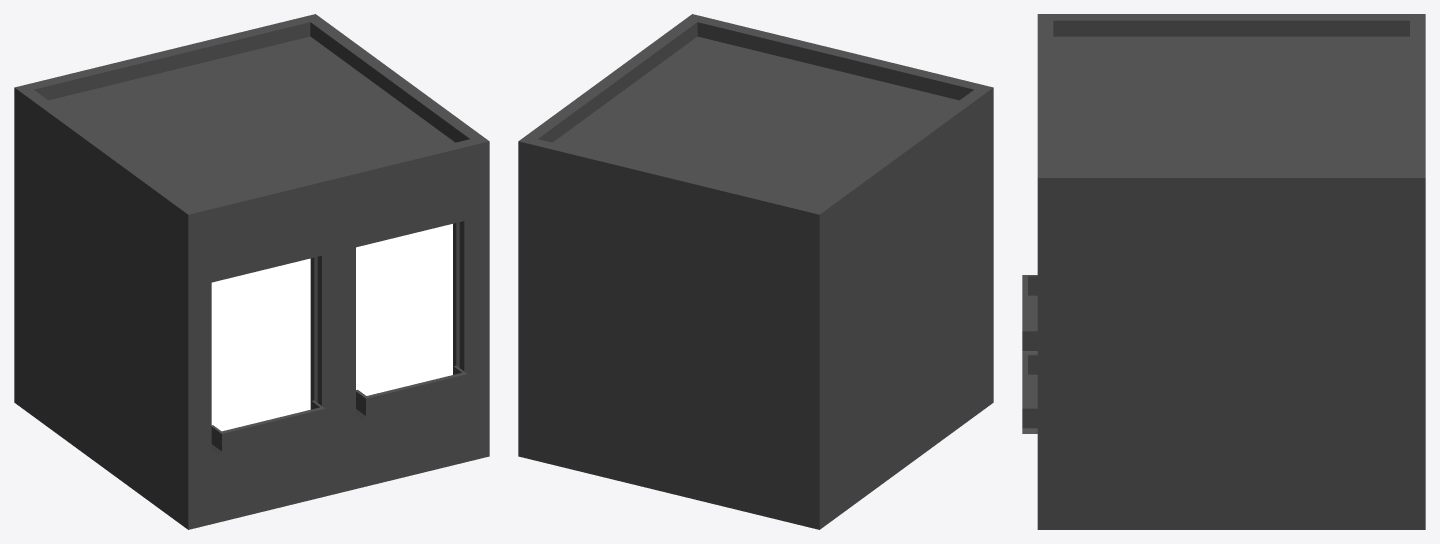
The model's file is BookHaut.fbx.
The picture shows the model from 3 angles, left to right: view 1: azimuth 30°, elevation 25°; view 2: azimuth 150°, elevation 25°; view 3: azimuth 270°, elevation 25°; orthographic projection. The views are drawn at different scales.
Visible parts, largest first — view 1: Cube.028; view 2: Cube.028; view 3: Cube.028.
Boxes of the visible parts, x1,y1,x2,y2 form: Cube.028: (14,14,489,529); Cube.028: (518,14,993,529); Cube.028: (1022,14,1425,529).
Bounding box in the file's own units: 2000 × 2000 × 2079.
